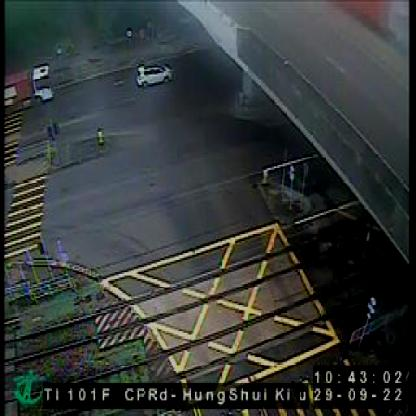Car: (135, 59, 173, 90)
Truck: (0, 58, 58, 107)
